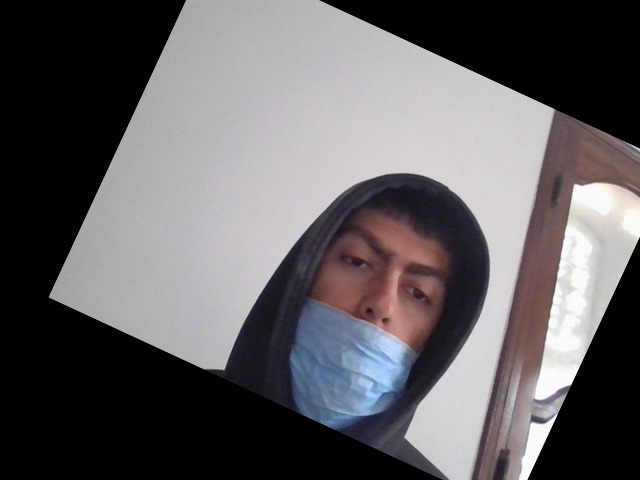mask_weared_incorrect: (301, 180, 469, 438)
